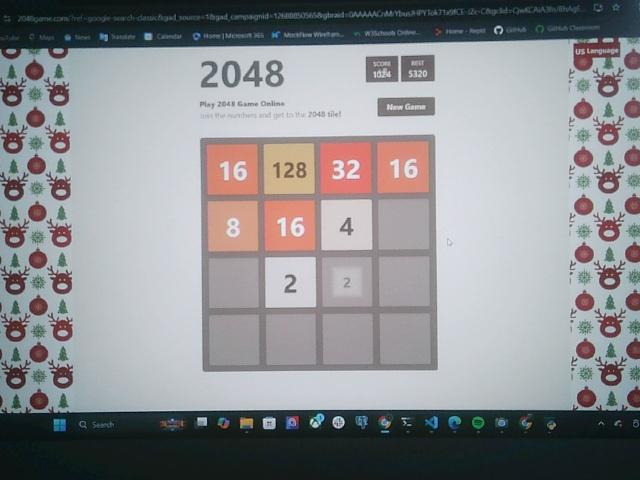board: (202, 137, 437, 370)
tile: (378, 141, 430, 194), (321, 199, 373, 251), (319, 143, 372, 194), (265, 143, 316, 195), (265, 256, 316, 308), (207, 144, 258, 195), (265, 201, 316, 252), (209, 201, 258, 252)
